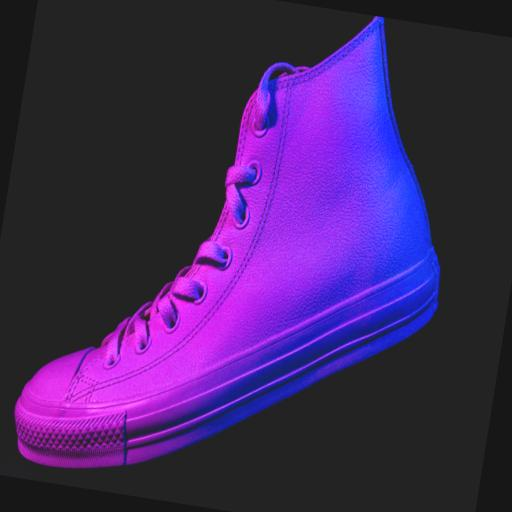shoe: (15, 16, 439, 467)
